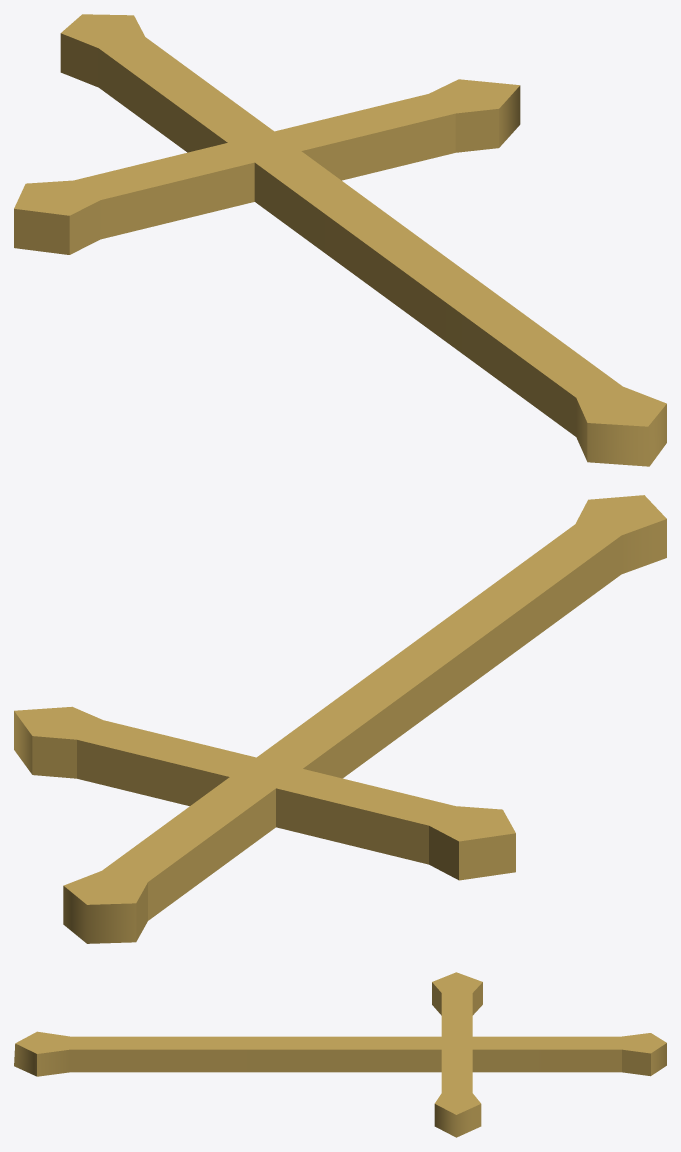
File: CRUZ.fbx
3 views of the same model, one above another, from view 1: azimuth 30°, elevation 25°; view 2: azimuth 150°, elevation 25°; view 3: azimuth 270°, elevation 25° (orthographic). The views are drawn at different scales.
Visible parts, largest first — view 1: Cruz; view 2: Cruz; view 3: Cruz.
Boxes of the visible parts, x1,y1,x2,y2 form: Cruz: (14, 14, 666, 466); Cruz: (14, 495, 666, 943); Cruz: (14, 972, 666, 1137).
Bounding box in the file's own units: 0.2122 × 0.0158 × 0.4102.
